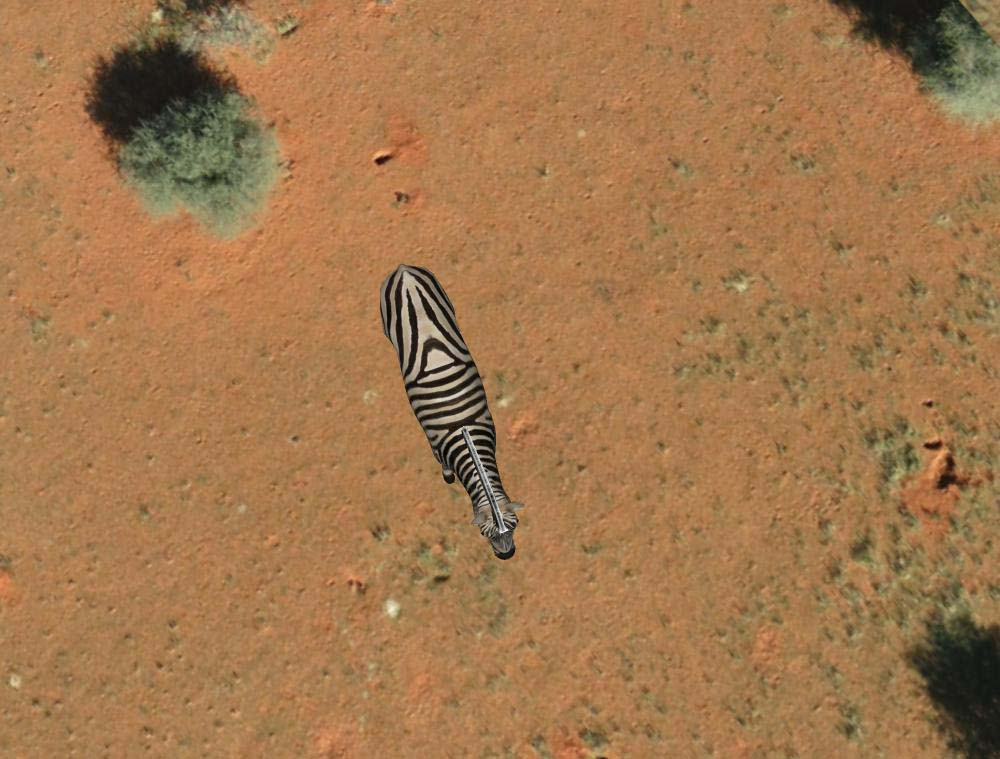zebra: (374, 262, 528, 564)
